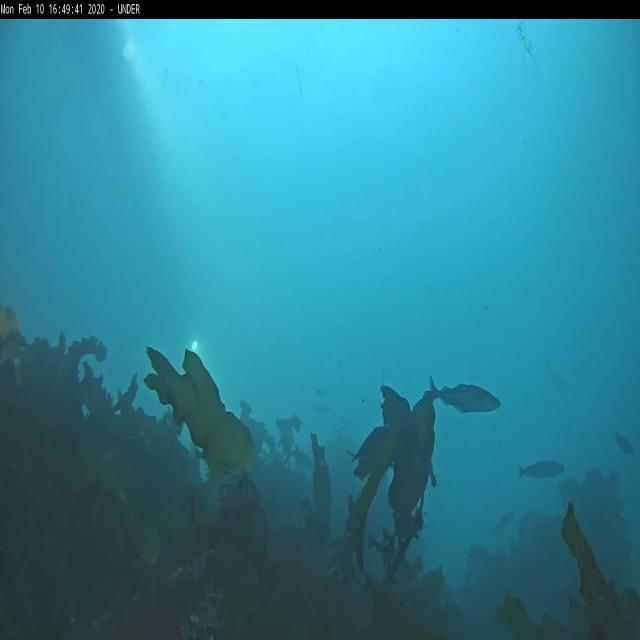fish: (429, 375, 500, 413), (518, 460, 564, 483), (614, 431, 634, 456)
